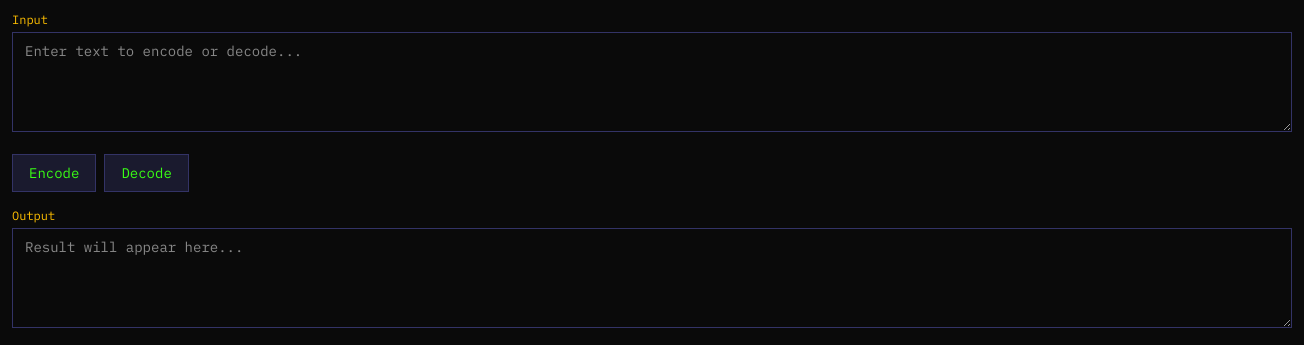
Scenario: HtmlEncoder component › encodes text when Encode is clicked
Type "<div>" into the text box labelled "Input".
click(652, 82); type("<div>")  # box top-left (12, 32), bottom-right (1292, 132)
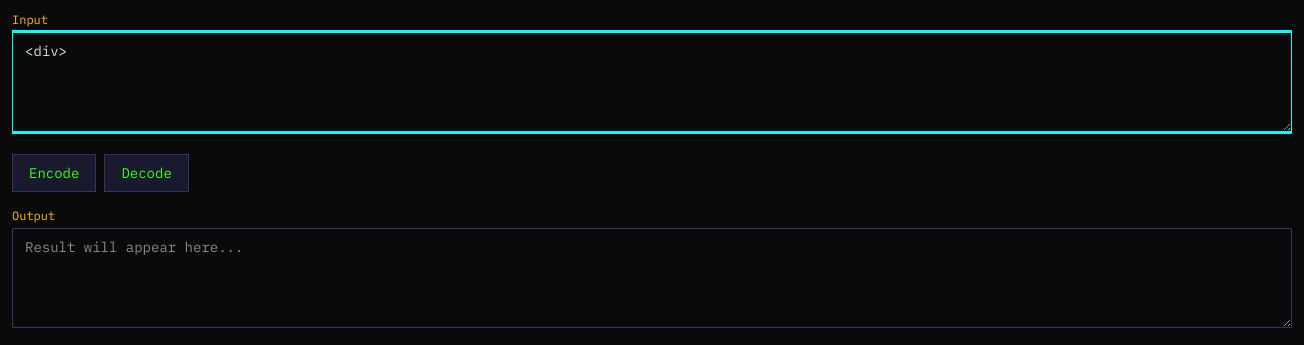
Click the button "Encode".
click(54, 173)  # box top-left (12, 154), bottom-right (96, 192)
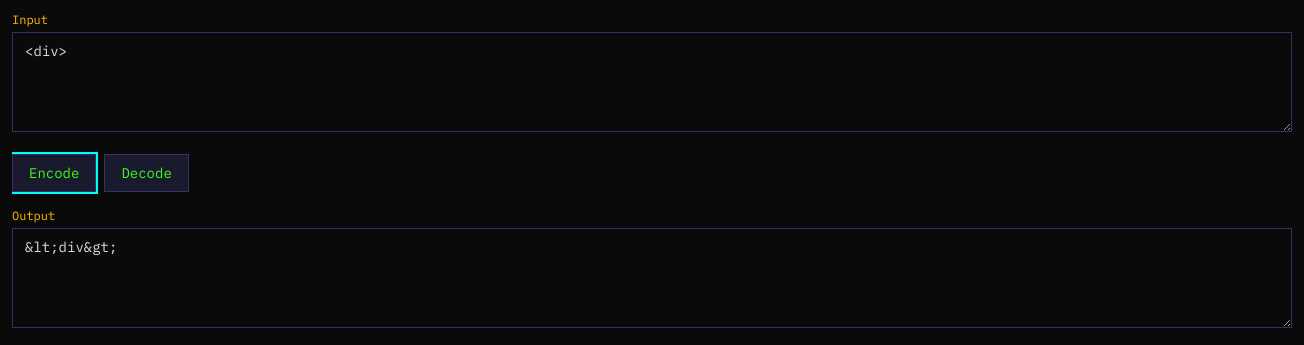
Check: the text box labelled "Output" holds "&lt;div&gt;", box top-left (12, 228), bottom-right (1292, 328)
